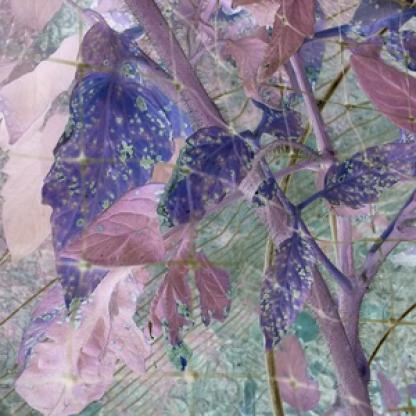Tomato Septoria leaf spot: (42, 68, 178, 320), (155, 121, 269, 256), (252, 234, 323, 360), (314, 147, 400, 220)
